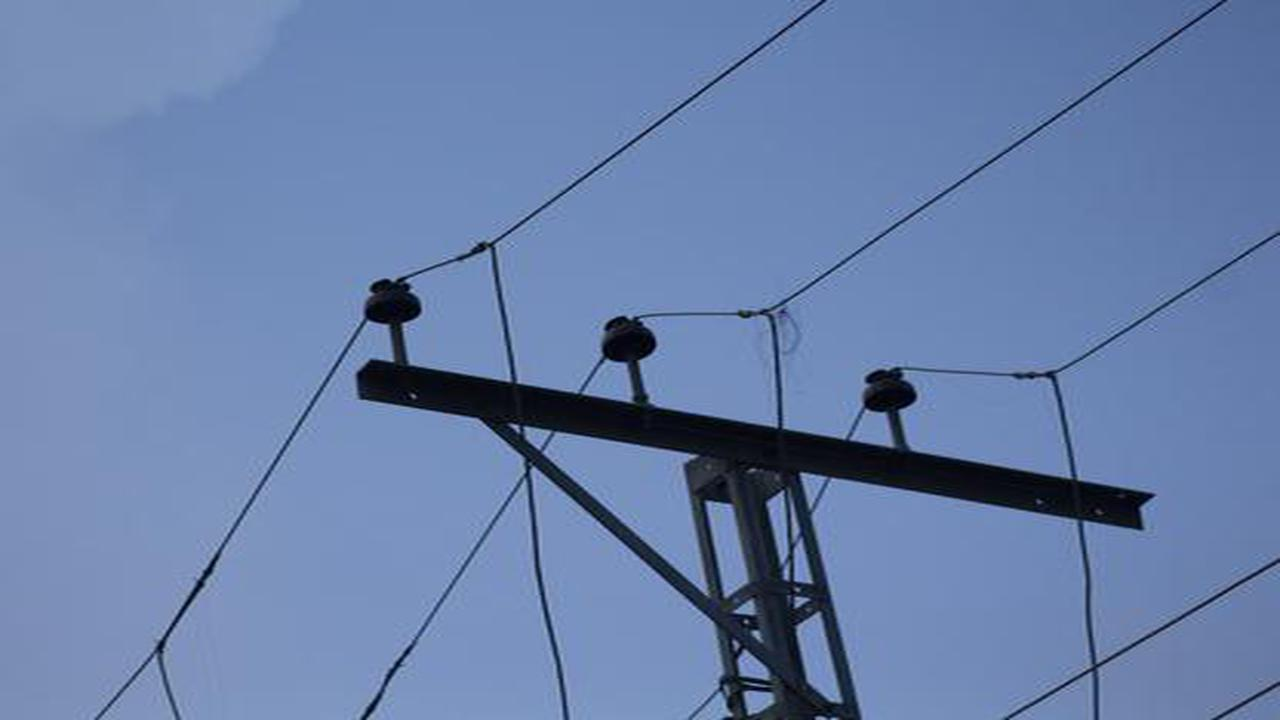insulator_pin: (355, 275, 429, 337), (854, 359, 924, 422), (592, 307, 661, 369)
